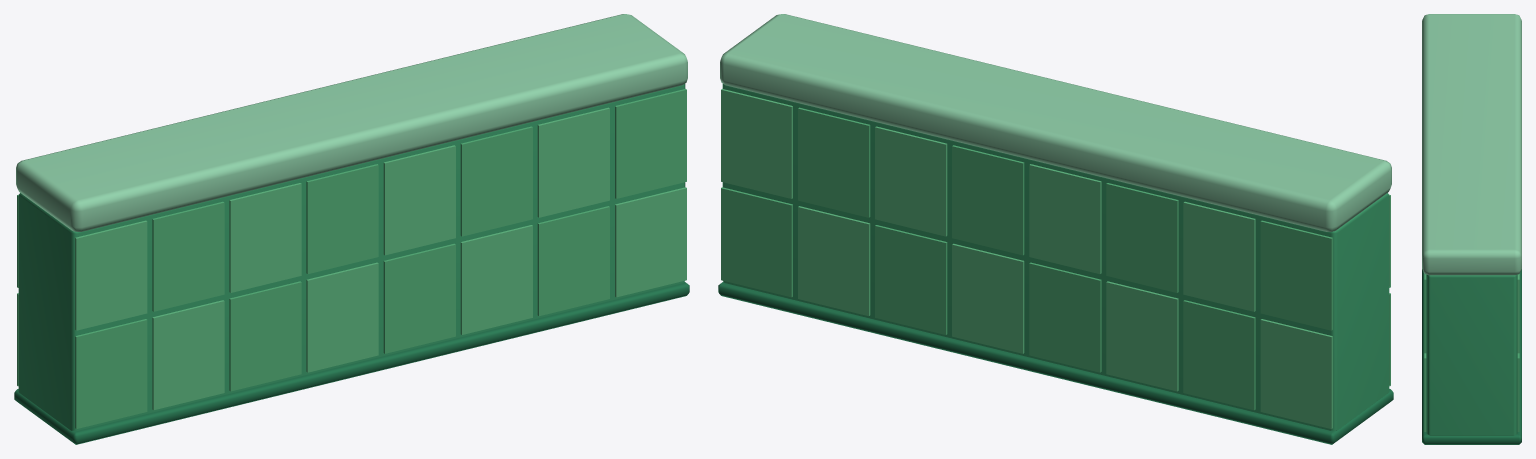
Rendered from mint-border.glb.
3 renders of one model, left to right at view 1: azimuth 30°, elevation 25°; view 2: azimuth 150°, elevation 25°; view 3: azimuth 270°, elevation 25°, orthographic. The views are drawn at different scales.
Parts seen in each view (by area): view 1: mint-border; view 2: mint-border; view 3: mint-border.
Boxes of the visible parts, <box> form: mint-border: <box>14,14,689,444</box>; mint-border: <box>718,14,1393,444</box>; mint-border: <box>1422,14,1521,444</box>.
Bounding box in the file's own units: 4 × 1.5 × 0.7.
